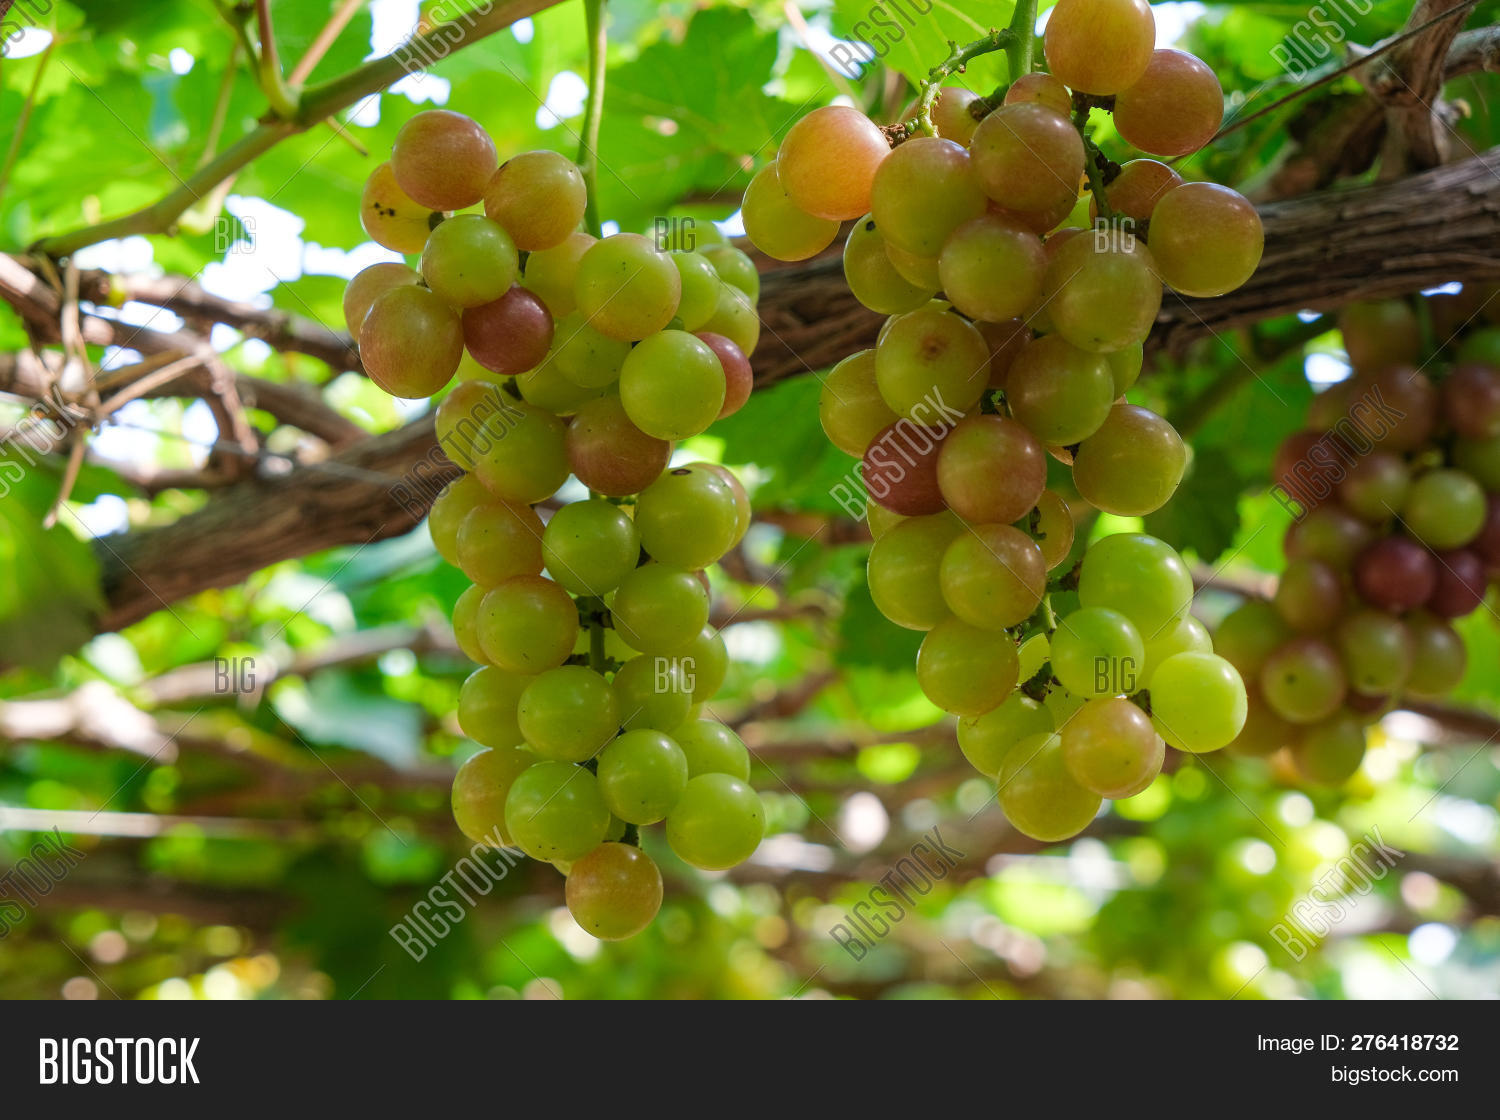grapes: (755, 47, 1276, 849), (355, 111, 793, 956)
